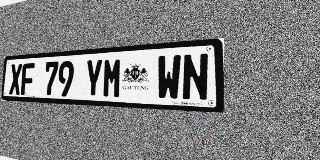7: (43, 61, 59, 96)
9: (58, 61, 74, 97)
F: (21, 63, 35, 95)
M: (102, 58, 122, 98)
N: (182, 53, 209, 102)
W: (156, 54, 181, 101)
X: (9, 64, 22, 95)
Y: (84, 59, 103, 98)
